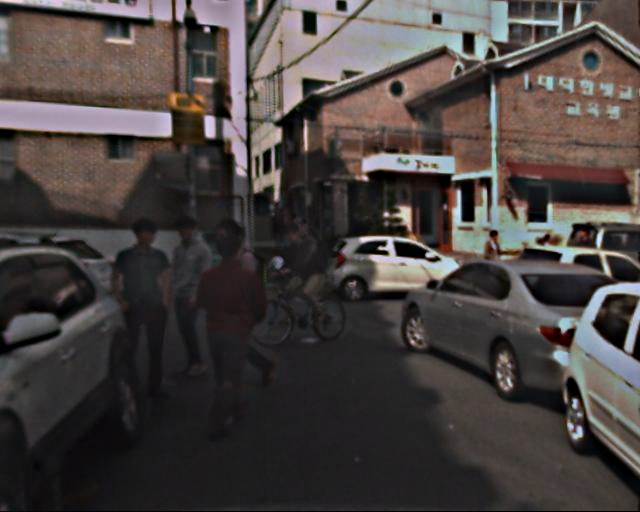person: (192, 238, 272, 438), (107, 216, 189, 398), (197, 217, 274, 380), (163, 213, 228, 368), (281, 226, 324, 332), (479, 229, 508, 301)
